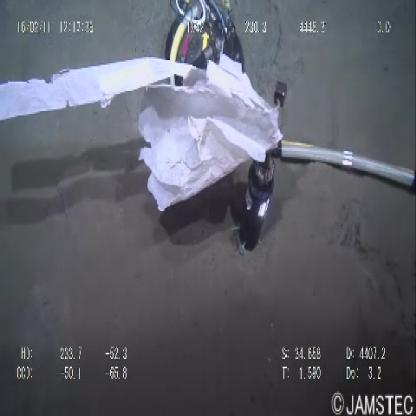Rác: (1, 62, 282, 218)
